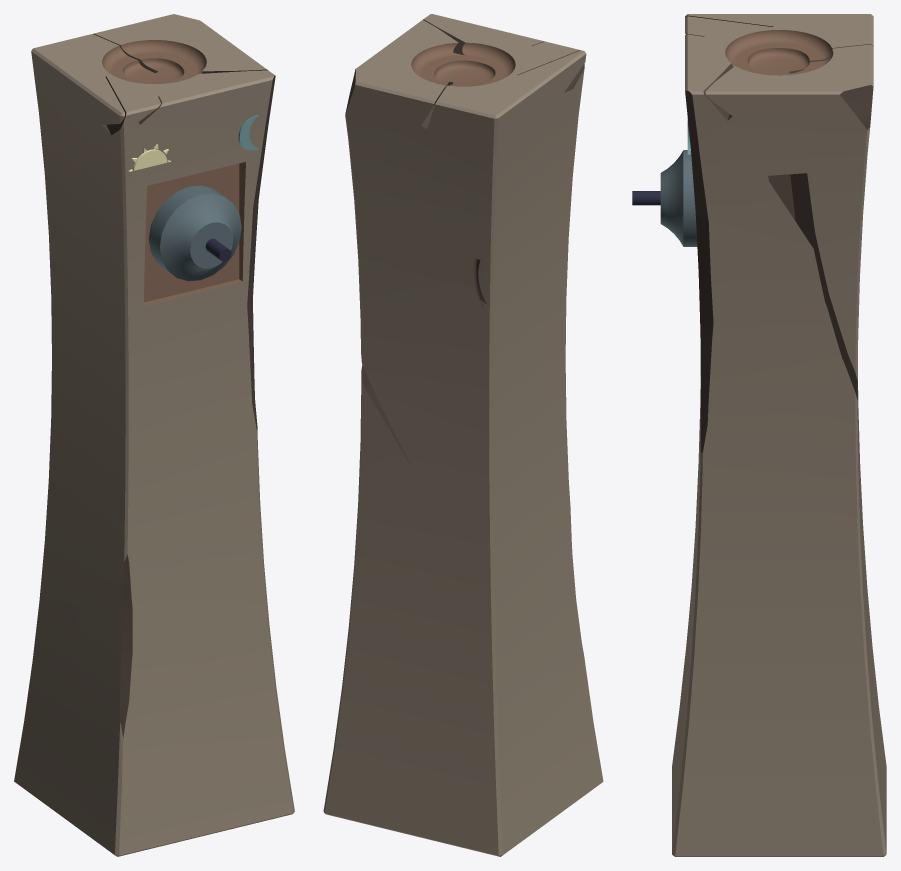
File: crank non interactable.fbx
3 views of the same model, side by side, from view 1: azimuth 30°, elevation 25°; view 2: azimuth 150°, elevation 25°; view 3: azimuth 270°, elevation 25° (orthographic). The views are drawn at different scales.
Parts seen in each view (by area): view 1: Boole_mug_1; view 2: Boole_mug_1; view 3: Boole_mug_1.
Part boxes in pixels (box(x1,y1,x2,y2)): Boole_mug_1: box(14, 14, 294, 856); Boole_mug_1: box(323, 14, 603, 856); Boole_mug_1: box(632, 14, 886, 856).
Bounding box in the file's own units: 43.21 × 169 × 51.19.
